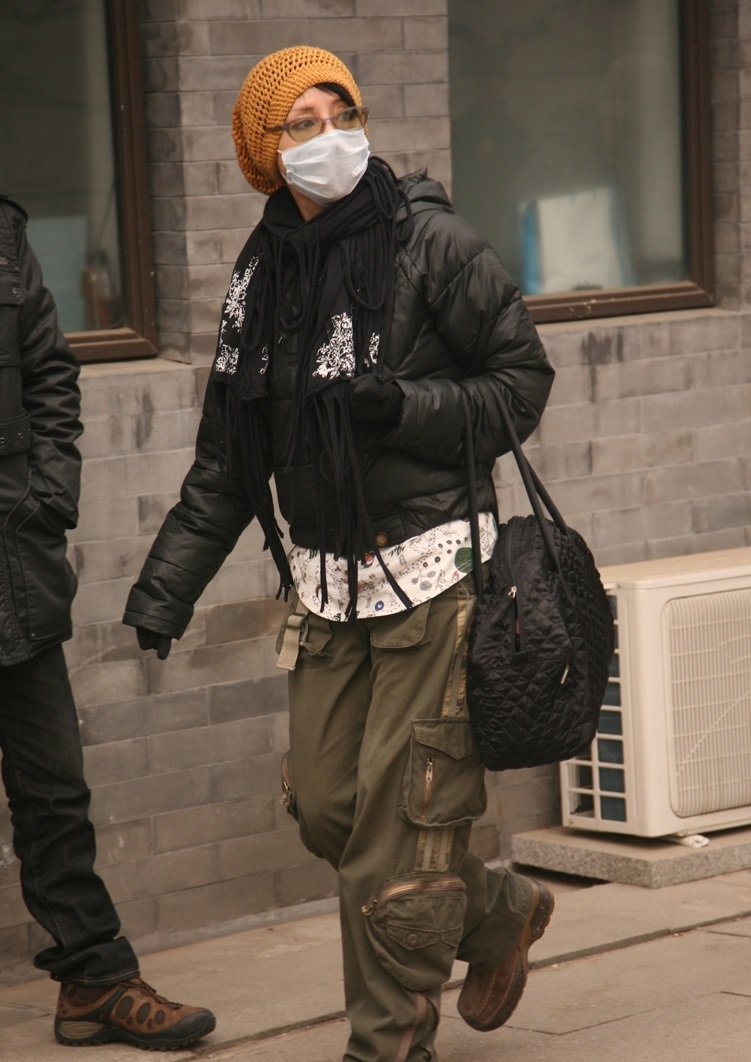face_mask: (280, 77, 367, 202)
